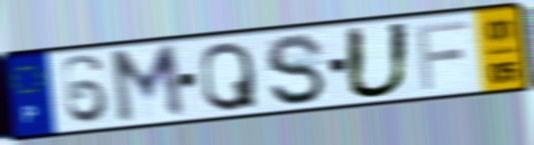6: (60, 53, 111, 128)
F: (413, 17, 472, 93)
M: (106, 41, 189, 128)
Q: (199, 38, 261, 114)
S: (262, 31, 329, 108)
U: (341, 20, 414, 102)
